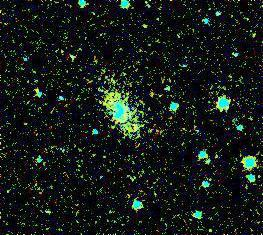star: (16, 80, 46, 110)
